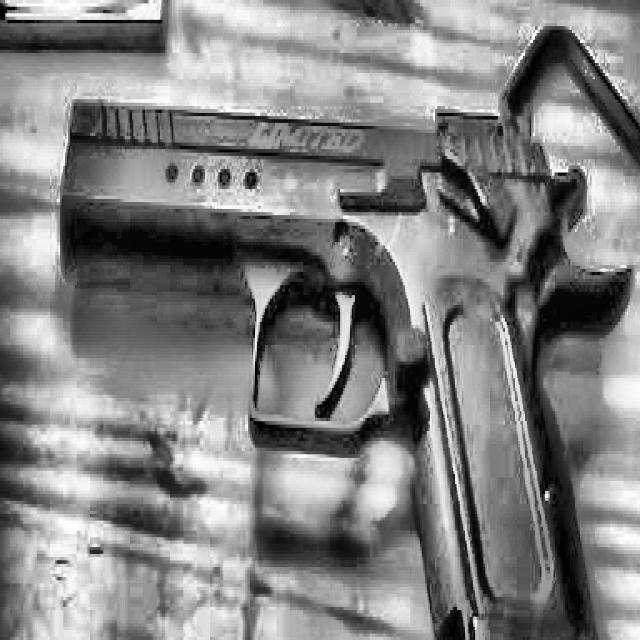Tanfoglio: (0, 0, 640, 640), (56, 20, 640, 640)
